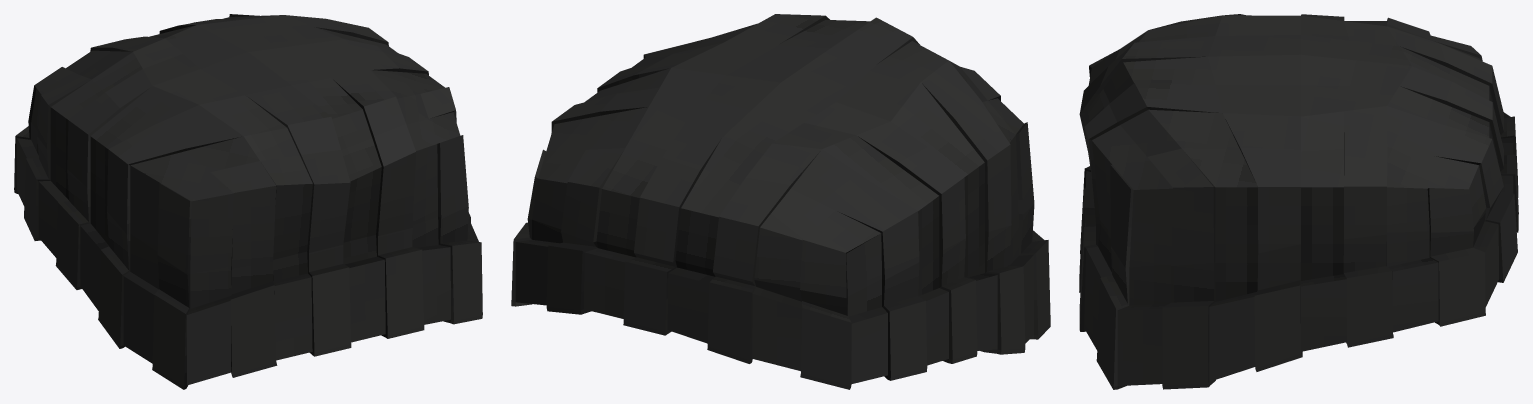
3 renders of one model, left to right at view 1: azimuth 30°, elevation 25°; view 2: azimuth 150°, elevation 25°; view 3: azimuth 270°, elevation 25°, orthographic. The views are drawn at different scales.
Visible parts, largest first — view 1: head; view 2: head; view 3: head.
Part boxes in pixels (box(x1,y1,x2,y2)): head: box(14, 14, 482, 389); head: box(511, 14, 1050, 389); head: box(1079, 14, 1518, 389).
Bounding box in the file's own units: 0.6375 × 0.4249 × 0.6565.
Materials: 1 (1 with a texture image).
